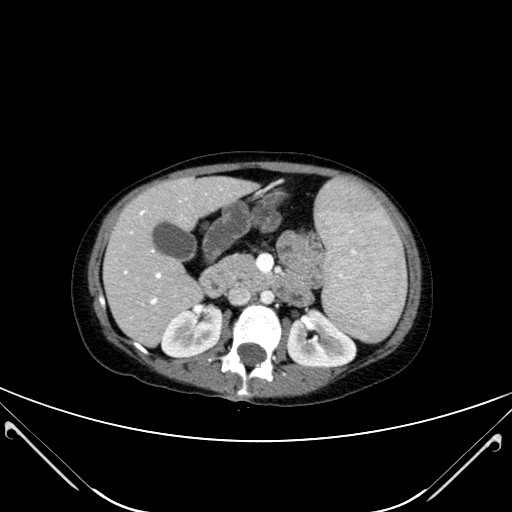vesicula: (150, 218, 199, 264)
